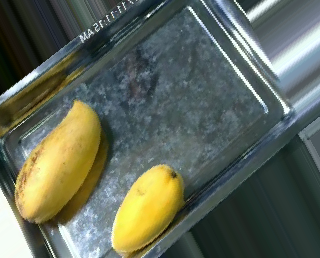Mango: (13, 98, 103, 223), (112, 163, 185, 252)
